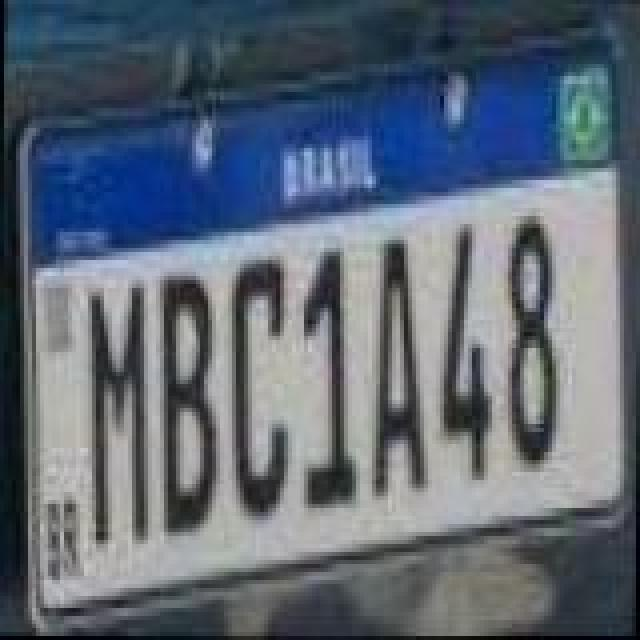1: (296, 250, 364, 514)
4: (438, 224, 498, 480)
8: (504, 218, 568, 470)
A: (368, 240, 432, 496)
B: (156, 272, 224, 536)
C: (224, 256, 292, 520)
M: (82, 280, 154, 544)
